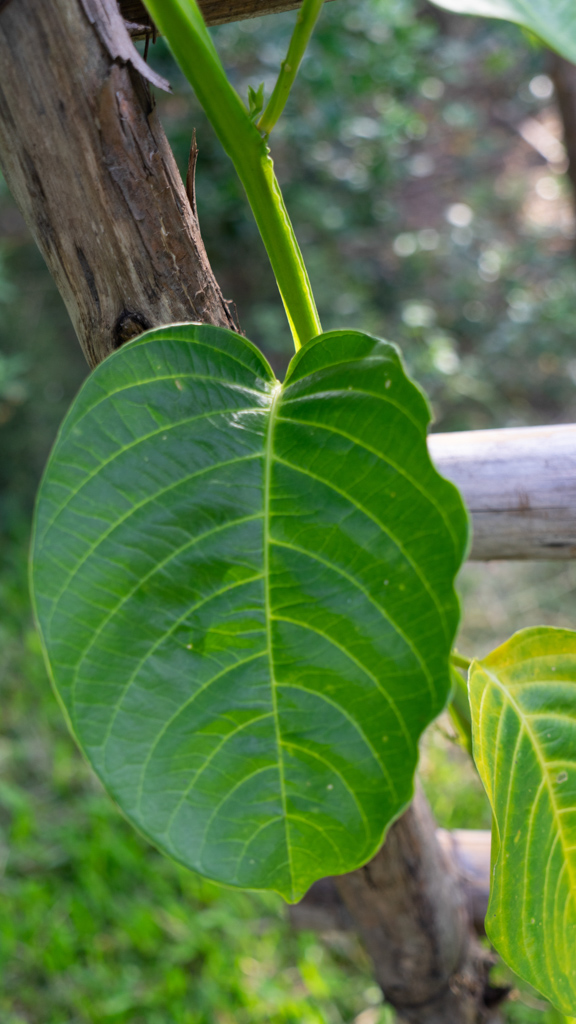Pepper yellow leaf: (462, 618, 573, 1000)
